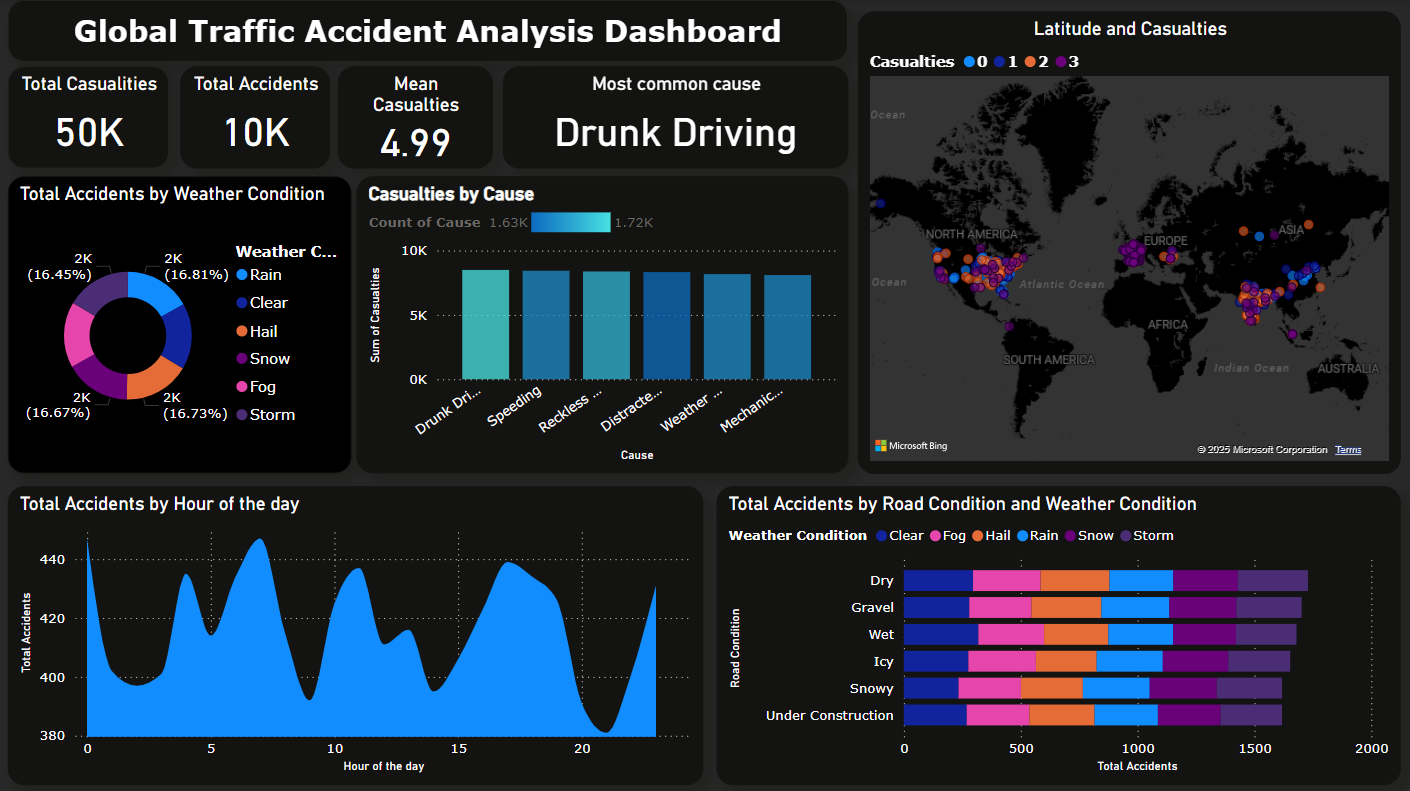

Layout of this report page (visuals, bound fields, positions):
{"tool":"powerbi","page":{"name":"Page 1","canvas":[1280,720],"ordinal":0},"visuals":[{"type":"areaChart","fields":{"Category":["global_traffic_accidents.Hour of the day"],"Y":["global_traffic_accidents.Total Accidents"]},"box":[8.1,440.7,631.4,270.9],"z":0},{"type":"barChart","fields":{"Category":["global_traffic_accidents.Road Condition"],"Y":["global_traffic_accidents.Total Accidents"],"Series":["global_traffic_accidents.Weather Condition"]},"box":[651.2,440.7,620.9,270.9],"z":1000},{"type":"donutChart","fields":{"Category":["global_traffic_accidents.Weather Condition"],"Y":["global_traffic_accidents.Total Accidents"]},"box":[8.1,160.5,311.6,269.8],"z":2000},{"type":"columnChart","title":"Casualties by Cause","fields":{"Category":["global_traffic_accidents.Cause"],"Y":["Sum(global_traffic_accidents.Casualties)"]},"box":[324.4,160.5,446.5,269.8],"z":3000},{"type":"map","fields":{"Category":["global_traffic_accidents.Latitude","global_traffic_accidents.Longitude"],"Series":["global_traffic_accidents.Casualties"]},"box":[779.1,10.5,493,419.8],"z":4000},{"type":"card","title":"Total Casualities","fields":{"Values":["Sum(global_traffic_accidents.Casualties)"]},"box":[8.1,60.5,146.5,93],"z":5000},{"type":"card","title":"Total Accidents","fields":{"Values":["global_traffic_accidents.Total Accidents"]},"box":[164,60.5,136,93],"z":6000},{"type":"card","title":"Mean Casualties","fields":{"Values":["global_traffic_accidents.Average Casualties per Accident"]},"box":[307,60.5,140.7,93],"z":7000},{"type":"card","title":"Most common cause","fields":{"Values":["global_traffic_accidents.Most Common Cause"]},"box":[457,60.5,314,93],"z":7001},{"type":"textbox","box":[8.1,0,762.8,55.8],"z":7002}]}

Visuals, with their boxes in screenshot pixels (x1, y1, x2, y2), scaled from the page's 1280x720 canvas onto the 1410x791 screenshot:
areaChart - global_traffic_accidents.Hour of the day x global_traffic_accidents.Total Accidents: rect(9, 484, 704, 782)
barChart - global_traffic_accidents.Road Condition x global_traffic_accidents.Total Accidents: rect(717, 484, 1401, 782)
donutChart - global_traffic_accidents.Weather Condition x global_traffic_accidents.Total Accidents: rect(9, 176, 352, 473)
"Casualties by Cause" columnChart: rect(357, 176, 849, 473)
map - global_traffic_accidents.Latitude x global_traffic_accidents.Longitude: rect(858, 12, 1401, 473)
"Total Casualities" card: rect(9, 66, 170, 169)
"Total Accidents" card: rect(181, 66, 330, 169)
"Mean Casualties" card: rect(338, 66, 493, 169)
"Most common cause" card: rect(503, 66, 849, 169)
textbox: rect(9, 0, 849, 61)
